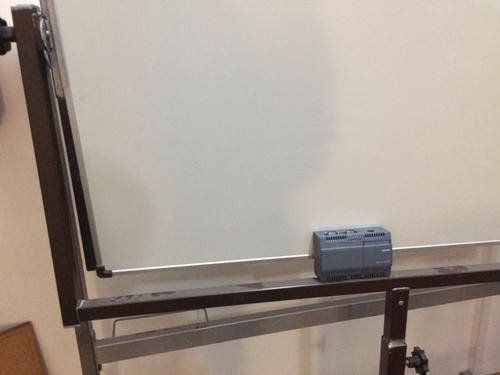iot2000: (311, 225, 393, 283)
